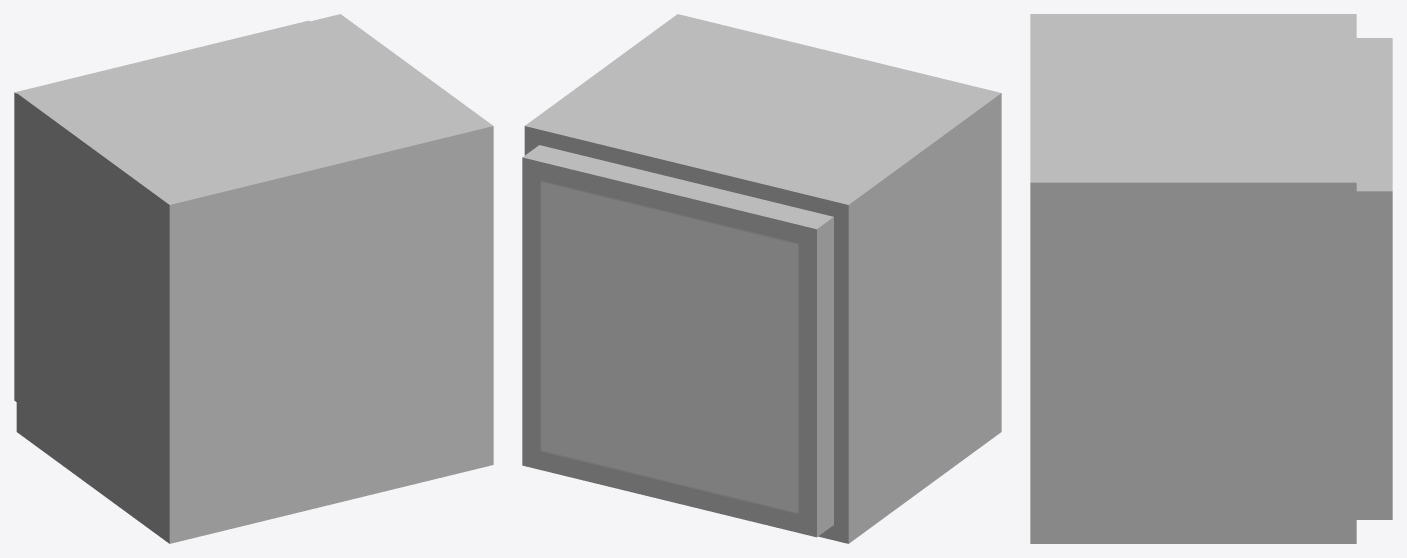
File: simplePrinter.dae
3 renders of one model, left to right at view 1: azimuth 30°, elevation 25°; view 2: azimuth 150°, elevation 25°; view 3: azimuth 270°, elevation 25°, orthographic. The views are drawn at different scales.
Parts seen in each view (by area): view 1: Cube; view 2: Cube; view 3: Cube.
Boxes of the visible parts, x1,y1,x2,y2 form: Cube: (14, 14, 493, 543); Cube: (522, 14, 1001, 543); Cube: (1030, 14, 1392, 543).
Size of the model in its own units: 1.1 by 1 by 1.1.
Materials: 2 (1 with a texture image).
